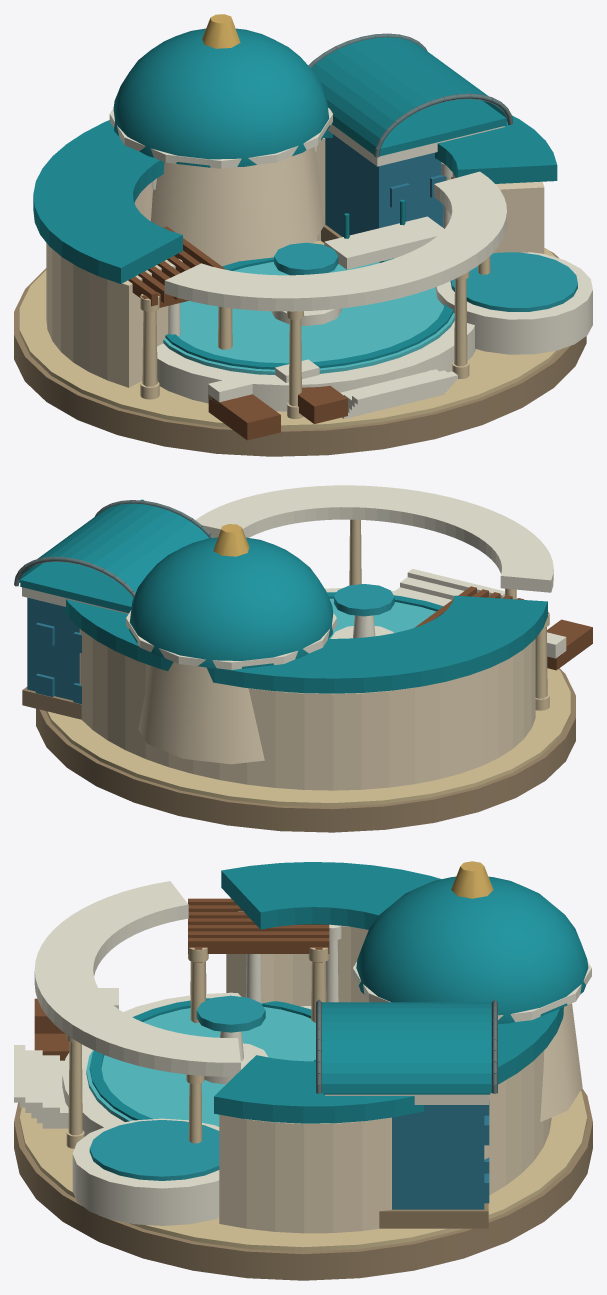
Rendered from recovery-center-lv5.glb.
The picture shows the model from 3 angles, top to bottom: view 1: azimuth 30°, elevation 25°; view 2: azimuth 150°, elevation 25°; view 3: azimuth 270°, elevation 25°; orthographic projection. The views are drawn at different scales.
Parts seen in each view (by area): view 1: recovery_dome_aqua, crescent_roof_aqua, foundation_stoneDark, pool_canopy_white, recovery_pavilion_cream, crescent_bathhouse_cream, water_pool, foundation_sand, rehabilitation_roof_aqua, rehabilitation_hall_glass, pool_terrace_white, raised_pool_white (+17 smaller); view 2: crescent_bathhouse_cream, recovery_dome_aqua, crescent_roof_aqua, foundation_stoneDark, pool_canopy_white, foundation_sand, recovery_pavilion_cream, rehabilitation_roof_aqua, rehabilitation_hall_glass, rehabilitation_hall_roof_aqua, body_stone, pool_steps_white (+11 smaller); view 3: crescent_bathhouse_cream, recovery_dome_aqua, crescent_roof_aqua, foundation_stoneDark, pool_canopy_white, rehabilitation_roof_aqua, foundation_sand, rehabilitation_hall_glass, water_pool, raised_pool_white, side_water_water, recovery_pergola_wood (+14 smaller).
Part boxes in pixels (box(x1,y1,x2,y2)): recovery_dome_aqua: box(113, 28, 330, 167); crescent_roof_aqua: box(33, 115, 557, 283); foundation_stoneDark: box(14, 251, 586, 456); pool_canopy_white: box(164, 171, 506, 311); recovery_pavilion_cream: box(151, 147, 324, 266); crescent_bathhouse_cream: box(46, 138, 544, 387); water_pool: box(163, 262, 454, 374); foundation_sand: box(19, 240, 561, 429); rehabilitation_roof_aqua: box(311, 37, 507, 154); rehabilitation_hall_glass: box(325, 134, 443, 236); pool_terrace_white: box(157, 321, 476, 411); raised_pool_white: box(435, 252, 592, 354); crescent_bathhouse_cream: box(79, 629, 535, 790); recovery_dome_aqua: box(128, 537, 333, 668); crescent_roof_aqua: box(64, 499, 547, 693); foundation_stoneDark: box(36, 668, 575, 832); pool_canopy_white: box(195, 485, 553, 592); foundation_sand: box(45, 588, 570, 806); recovery_pavilion_cream: box(138, 662, 264, 764); rehabilitation_roof_aqua: box(19, 503, 209, 592); rehabilitation_hall_glass: box(27, 597, 79, 700); rehabilitation_hall_roof_aqua: box(20, 561, 133, 613); body_stone: box(349, 519, 549, 710); pool_steps_white: box(395, 569, 504, 601); crescent_bathhouse_cream: box(219, 911, 551, 1233); recovery_dome_aqua: box(356, 876, 588, 1024); crescent_roof_aqua: box(214, 862, 563, 1123); foundation_stoneDark: box(14, 1088, 592, 1280); pool_canopy_white: box(34, 881, 240, 1076); rehabilitation_roof_aqua: box(322, 1002, 491, 1092); foundation_sand: box(19, 1090, 587, 1251); rehabilitation_hall_glass: box(392, 1105, 484, 1209); water_pool: box(86, 1007, 315, 1126); raised_pool_white: box(72, 1118, 219, 1225); side_water_water: box(89, 1120, 219, 1180); recovery_pergola_wood: box(188, 898, 329, 962).
Size of the model in its own units: 1 by 0.4959 by 0.9231.
